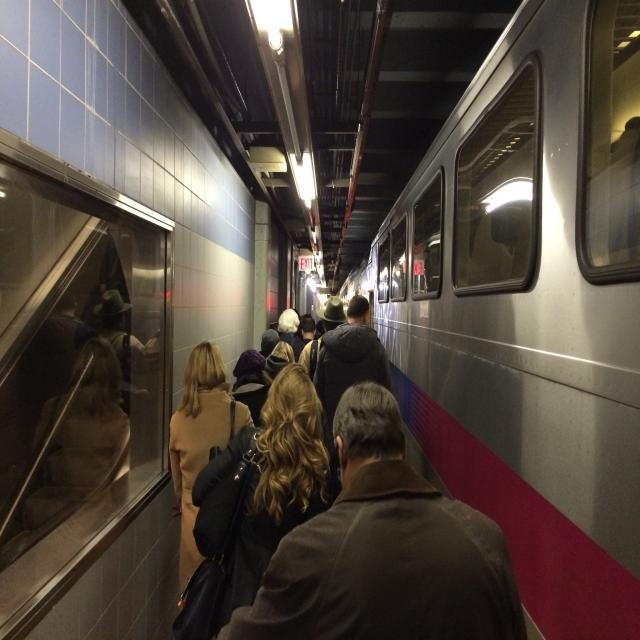body: (207, 376, 533, 640), (376, 115, 640, 301), (190, 361, 344, 640), (34, 273, 158, 501), (167, 339, 257, 617), (313, 294, 398, 506), (297, 294, 349, 386), (232, 349, 273, 433), (277, 308, 308, 363), (263, 340, 296, 382), (293, 316, 319, 363), (260, 327, 280, 358), (314, 319, 326, 340), (293, 307, 313, 319)
